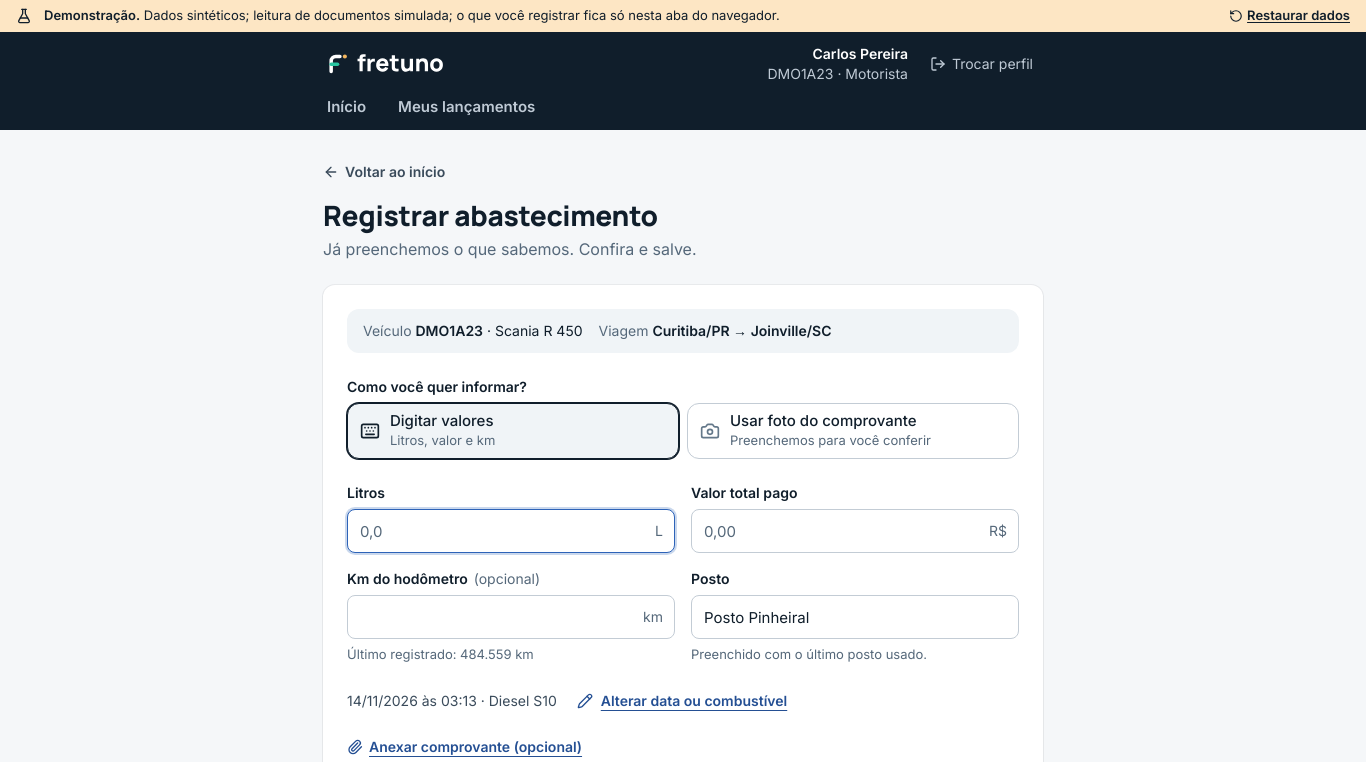
Test: Motorista › registra abastecimento digitando só litros, valor e km (posto e viagem já preenchidos)
Expected: the field labelled "Posto" is not empty, [691,595,1019,639]
Expected: the text "Curitiba/PR → Joinville/SC" is shown, [652,322,832,339]
Type "250,5" into the field labelled "Litros". click: [511, 531]
box: [347,509,675,553]
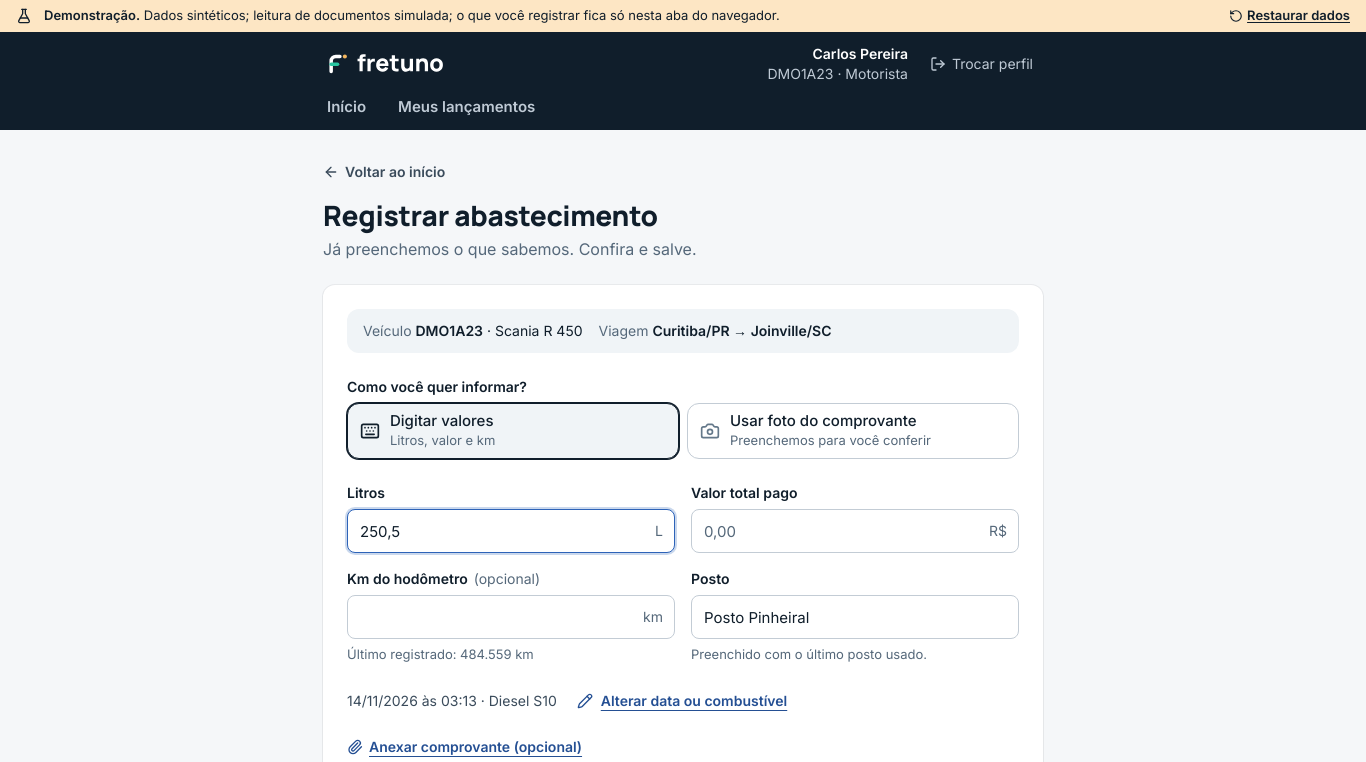
Type "1.553,10" into the field labelled "Valor total pago". click: [855, 531]
box: [691,509,1019,553]
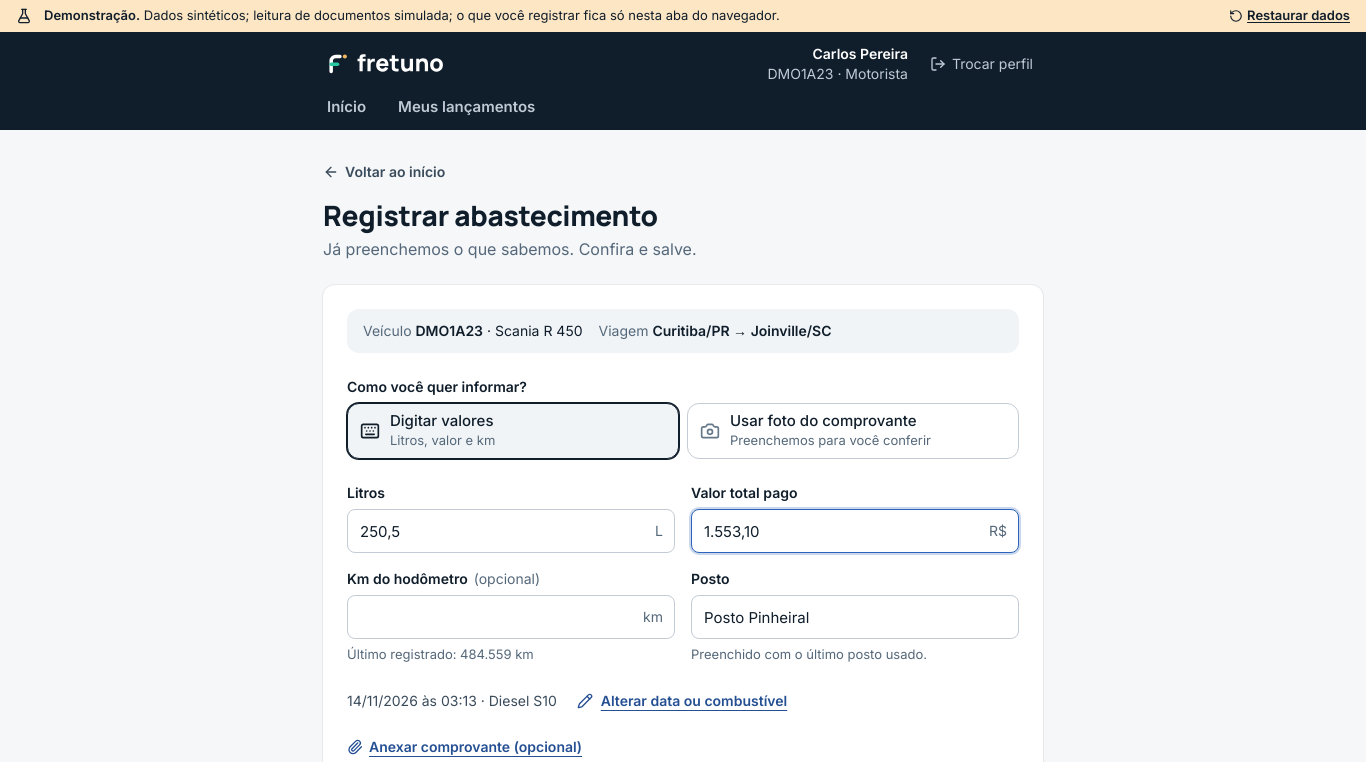
Type "999999" into the field labelled "Km do hodômetro(opcional)". click: [511, 617]
box: [347,595,675,639]
(page scrolled)
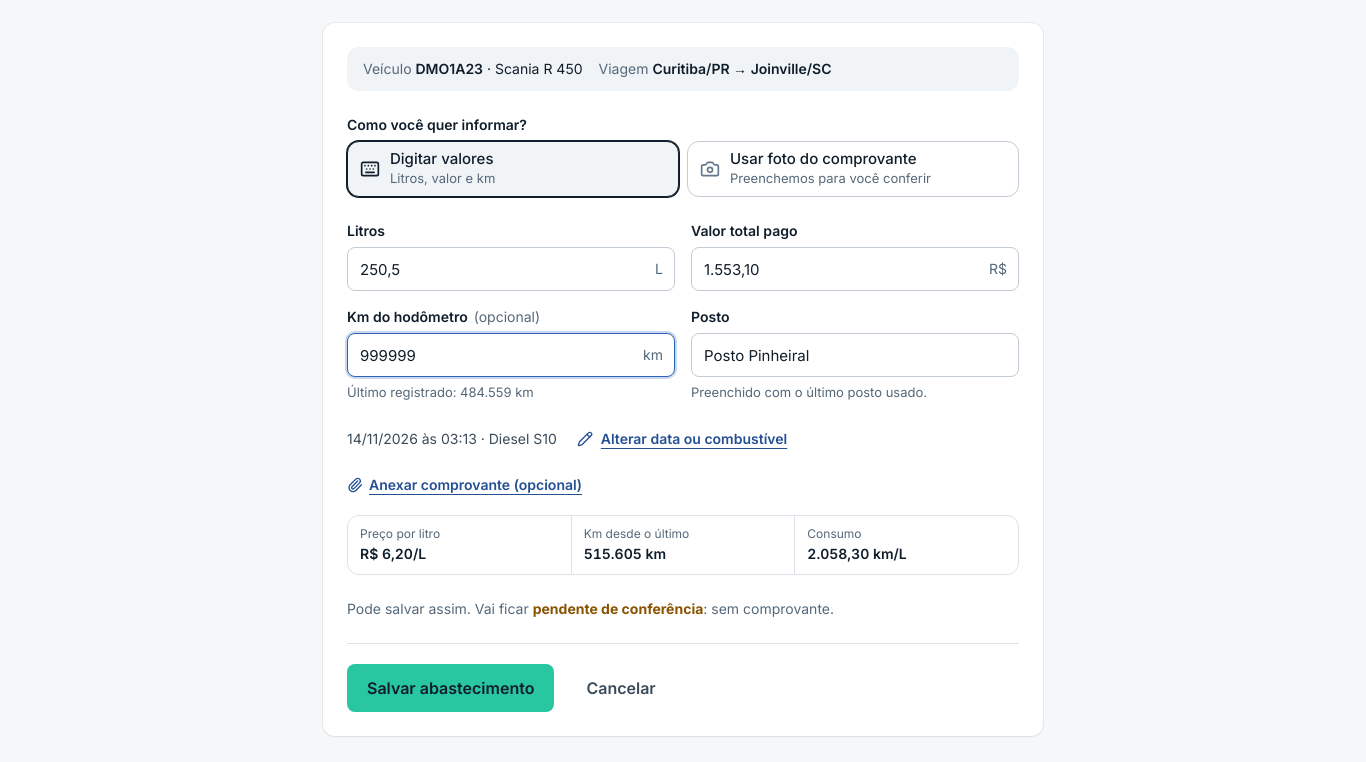
Click the button "Salvar abastecimento". click: [451, 688]
box: [347,664,554,712]
(page scrolled)
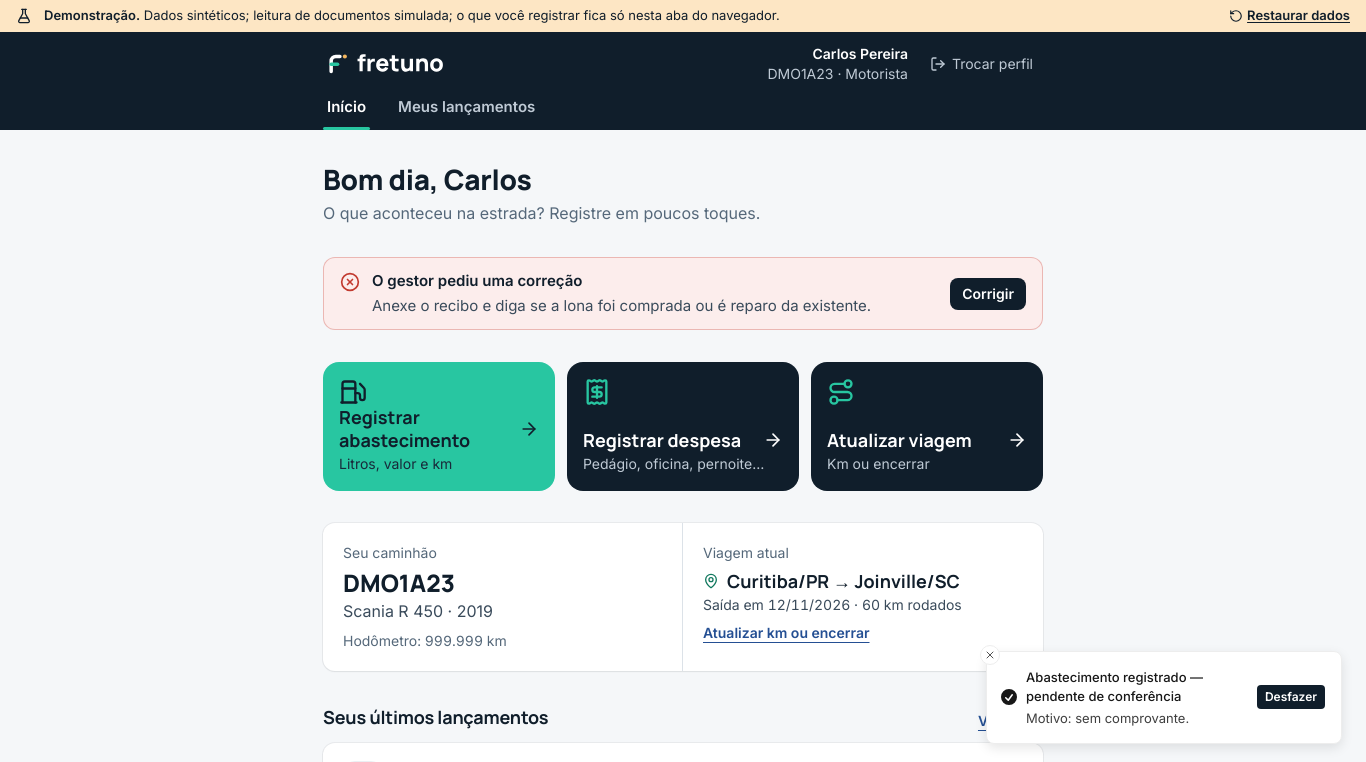
Expected: the text "Abastecimento registrado — pendente de conferência" is shown, [1026,669,1203,704]
Expected: the button "Desfazer" is shown, [1257,685,1325,709]
